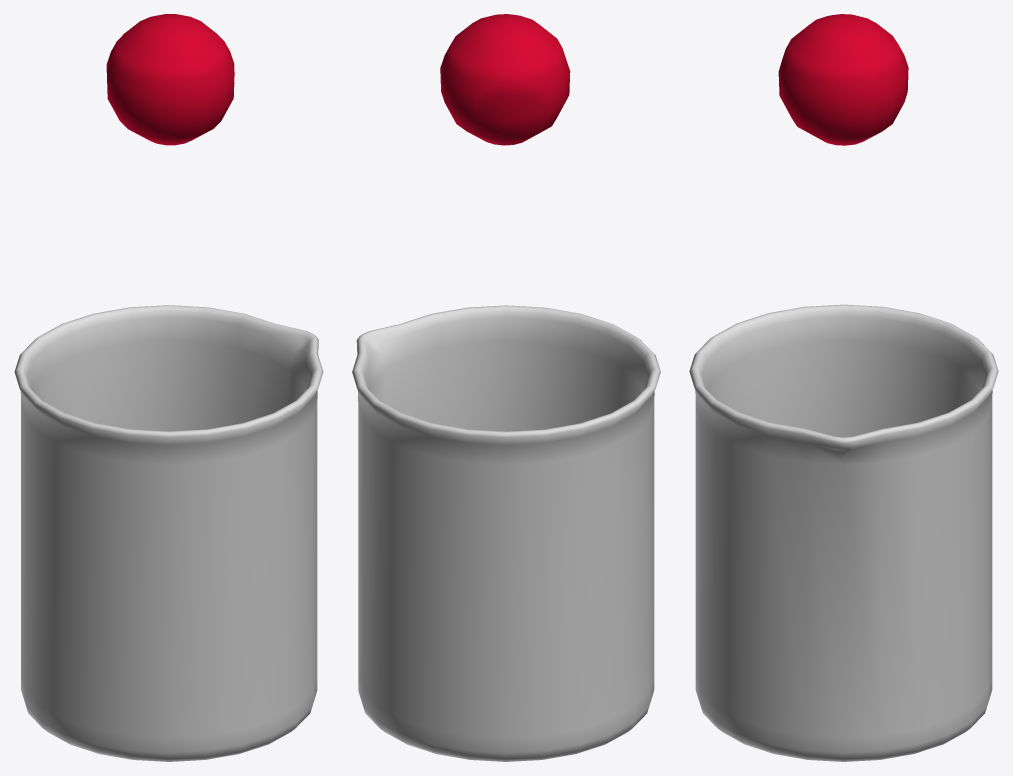
File: beaker sphere anim.fbx
3 renders of one model, left to right at view 1: azimuth 30°, elevation 25°; view 2: azimuth 150°, elevation 25°; view 3: azimuth 270°, elevation 25°, orthographic.
Visible parts, largest first — view 1: polySurface1, polySurface34; view 2: polySurface1, polySurface34; view 3: polySurface1, polySurface34.
Boxes of the visible parts, x1,y1,x2,y2 form: polySurface1: [14, 305, 323, 761]; polySurface34: [106, 14, 234, 145]; polySurface1: [352, 305, 660, 761]; polySurface34: [440, 14, 570, 145]; polySurface1: [689, 304, 998, 761]; polySurface34: [778, 14, 908, 145].
Bounding box in the file's own units: 0.1978 × 0.4607 × 0.1885.
